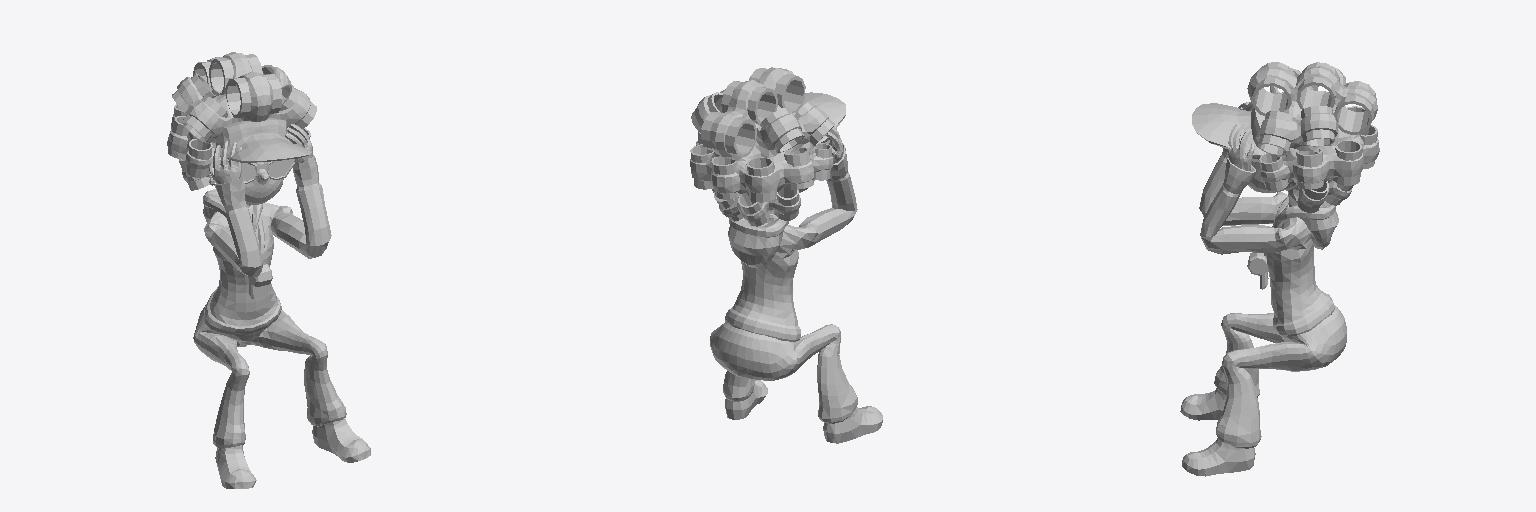
The model's file is humano_mom_17.obj.
3 renders of one model, left to right at view 1: azimuth 30°, elevation 25°; view 2: azimuth 150°, elevation 25°; view 3: azimuth 270°, elevation 25°, orthographic.
Visible parts, largest first — view 1: Fitness_Grandma_BodyGeo; view 2: Fitness_Grandma_BodyGeo; view 3: Fitness_Grandma_BodyGeo.
Boxes of the visible parts, x1=… form: Fitness_Grandma_BodyGeo: x1=167, y1=52, x2=370, y2=488; Fitness_Grandma_BodyGeo: x1=690, y1=67, x2=882, y2=443; Fitness_Grandma_BodyGeo: x1=1180, y1=62, x2=1379, y2=476.
Bounding box in the file's own units: 0.4641 × 1.15 × 0.553.